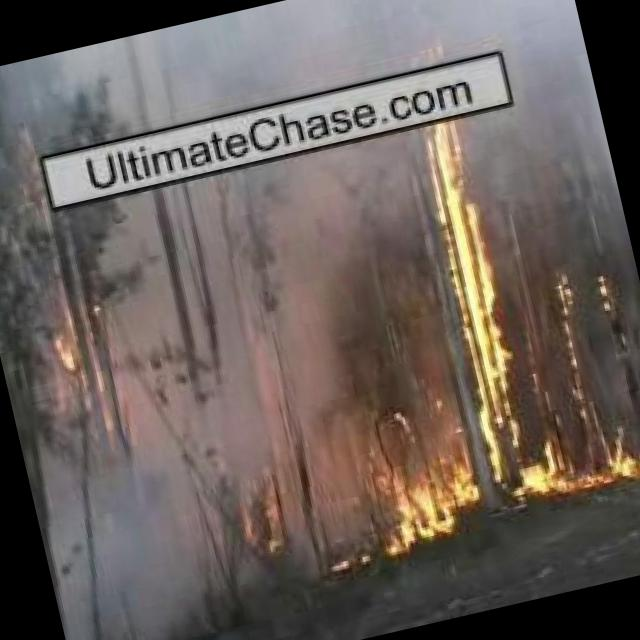Fire: (406, 114, 566, 511), (350, 410, 494, 569), (26, 290, 119, 430), (221, 458, 310, 572), (539, 270, 596, 404), (570, 385, 640, 494)
Smoke: (85, 128, 465, 490), (10, 0, 580, 152), (27, 436, 237, 640)
